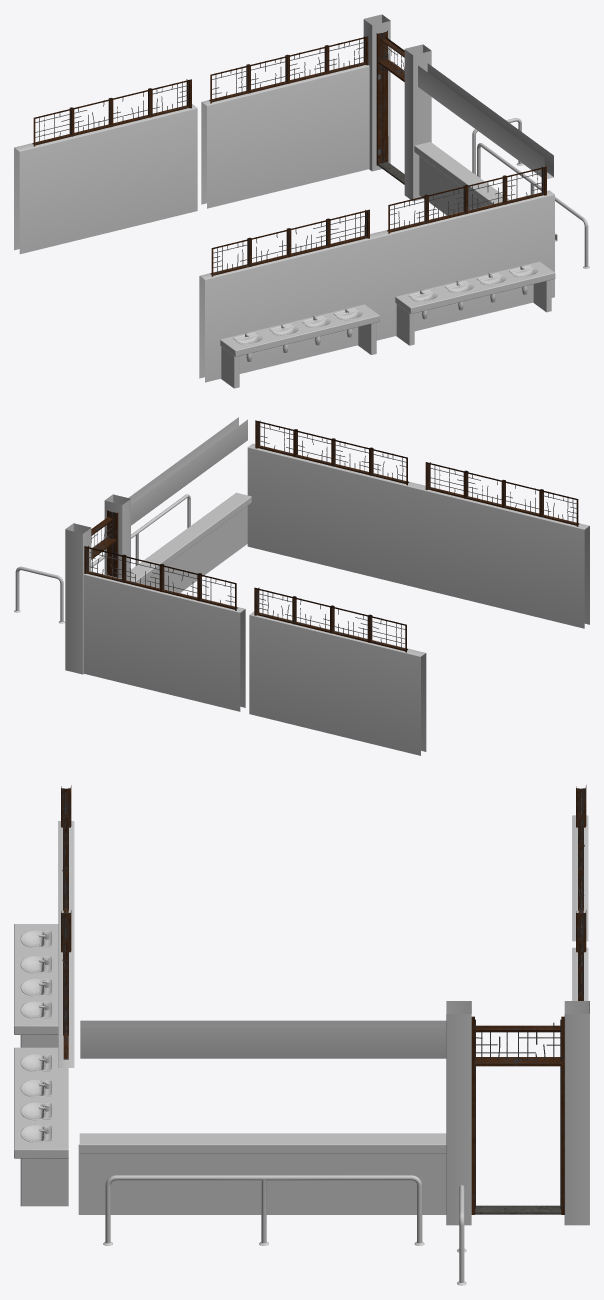
The model's file is canteen_prefab.FBX.
The picture shows the model from 3 angles, top to bottom: view 1: azimuth 30°, elevation 25°; view 2: azimuth 150°, elevation 25°; view 3: azimuth 270°, elevation 25°; orthographic projection. The views are drawn at different scales.
Visible parts, largest first — view 1: canteenWall_3, canteenWall_4, canteenWall_1, canteenWall_2, canteenWall_5, canteenSink_1, canteenSink_2, canteenPillar, 333_windowframe_018, 333_doorframe_030, 333_windowframe_020, 333_windowframe_017 (+4 smaller); view 2: canteenWall_3, canteenWall_2, canteenWall_1, canteenWall_4, canteenWall_5, canteenPillar001, canteenCounter, 333_windowframe_020, 333_windowframe_019, 333_windowframe_018, 333_windowframe_017, canteenPillar (+3 smaller); view 3: canteenWall_5, canteenSink_1, canteenCounter, canteenPillar001, canteenPillar, canteenSink_2, 333_doorframe_030, canteenRail_1, canteenWall_2, canteenWall_3, canteenWall_1, 333_windowframe_020 (+3 smaller).
Boxes of the visible parts, x1,y1,x2,y2 form: canteenWall_3: [14, 104, 197, 254]; canteenWall_4: [201, 65, 369, 208]; canteenWall_1: [199, 232, 383, 382]; canteenWall_2: [374, 190, 554, 338]; canteenWall_5: [418, 63, 553, 215]; canteenSink_1: [395, 261, 555, 345]; canteenSink_2: [220, 304, 379, 388]; canteenPillar: [404, 44, 431, 201]; 333_windowframe_018: [209, 36, 368, 103]; 333_doorframe_030: [376, 30, 404, 184]; 333_windowframe_020: [387, 166, 546, 233]; 333_windowframe_017: [32, 79, 191, 146]; canteenWall_3: [249, 611, 426, 755]; canteenWall_2: [247, 443, 423, 588]; canteenWall_1: [413, 484, 589, 628]; canteenWall_4: [83, 570, 245, 711]; canteenWall_5: [128, 417, 247, 592]; canteenPillar001: [65, 523, 91, 674]; canteenCounter: [131, 492, 251, 583]; 333_windowframe_020: [255, 420, 408, 485]; 333_windowframe_019: [425, 462, 579, 526]; 333_windowframe_018: [84, 546, 237, 610]; 333_windowframe_017: [254, 587, 407, 652]; canteenPillar: [104, 494, 130, 580]; canteenWall_5: [78, 1020, 446, 1214]; canteenSink_1: [14, 1047, 68, 1206]; canteenCounter: [79, 1133, 446, 1153]; canteenPillar001: [564, 1001, 589, 1225]; canteenPillar: [446, 1001, 471, 1225]; canteenSink_2: [14, 924, 58, 1047]; 333_doorframe_030: [471, 1016, 564, 1214]; canteenRail_1: [103, 1175, 424, 1245]; canteenWall_2: [58, 942, 74, 1067]; canteenWall_3: [572, 815, 588, 941]; canteenWall_1: [58, 821, 74, 946]; 333_windowframe_020: [61, 910, 71, 1059].
Size of the model in its own units: 1031 by 309 by 764.
